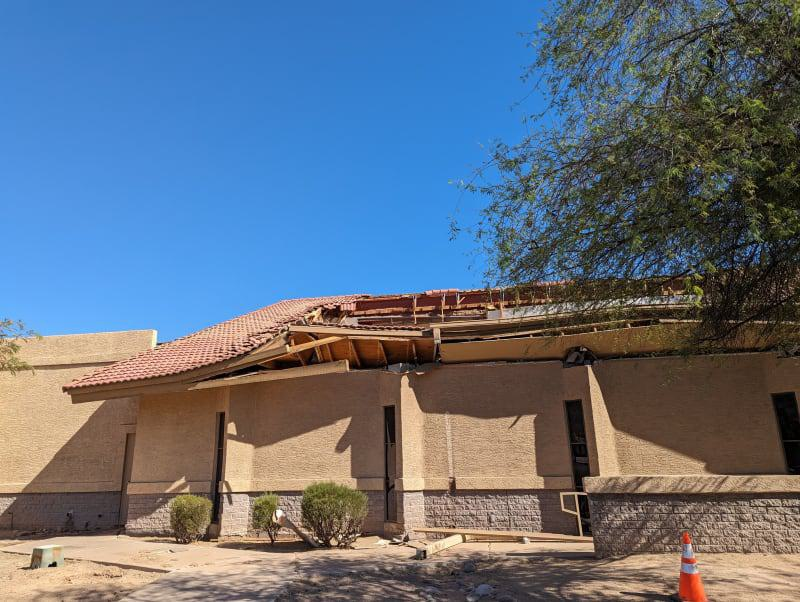sagging_roof: (278, 268, 685, 366)
